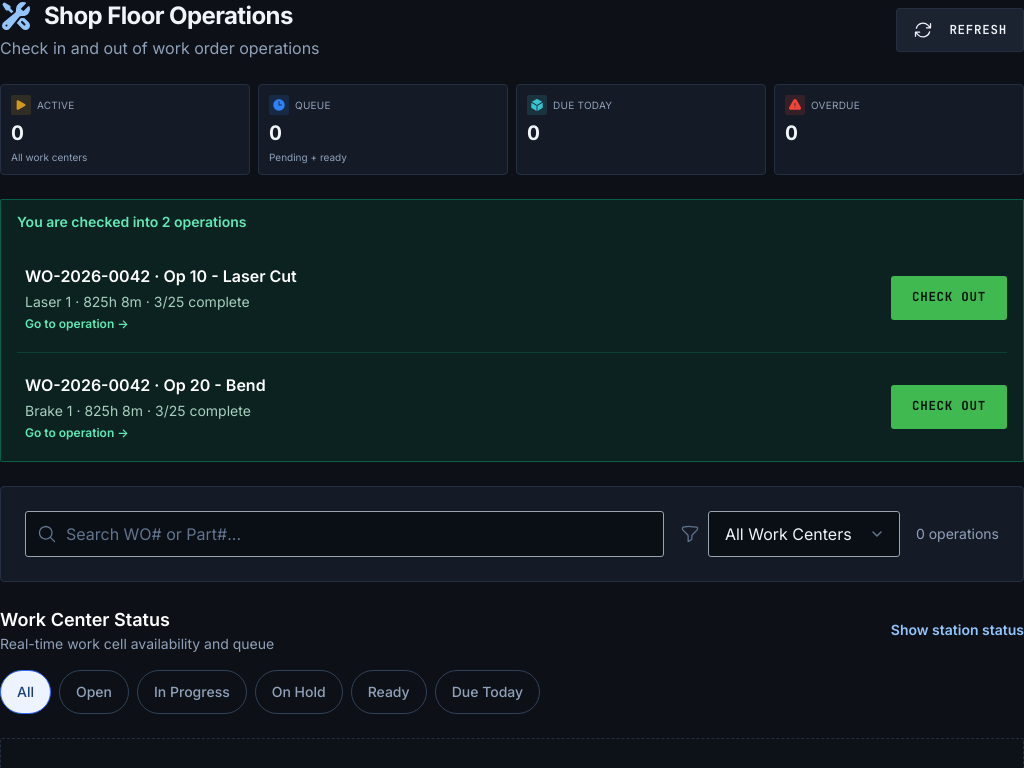
checked-in operation shortcuts › keeps Check Out separate from the operation shortcut
This screenshot has width=1024, height=768.
Click the 2nd button "Check Out" at (949, 406), box [891,384,1007,428]
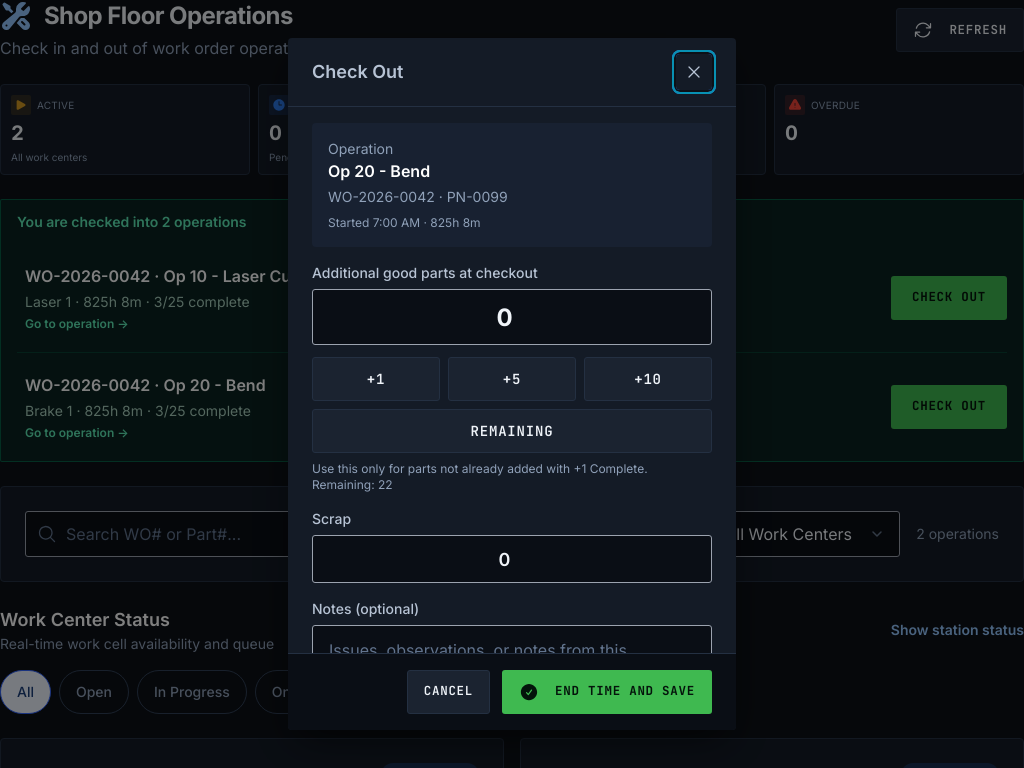
Check: the text "Op 20 - Bend" is shown, box [328,161,430,181]
